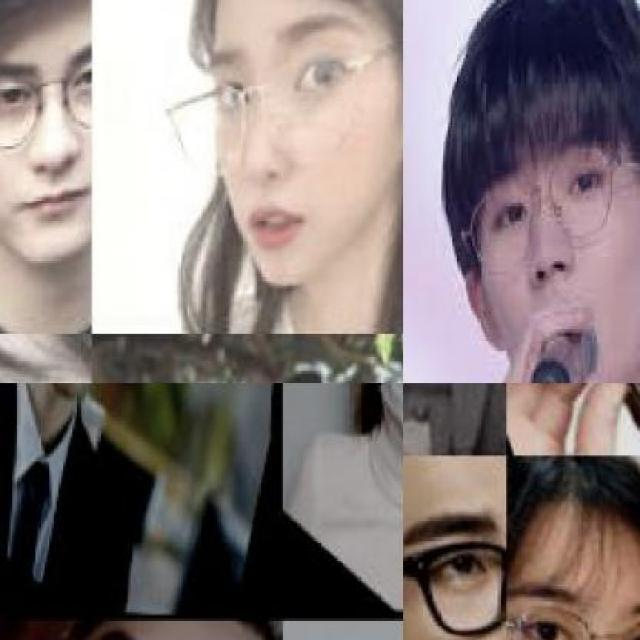glasses: (158, 29, 402, 185), (453, 146, 630, 265), (403, 542, 503, 638), (0, 63, 89, 159), (510, 596, 638, 638)
